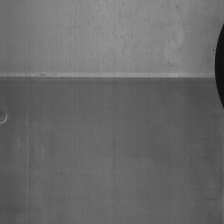welding_line: (0, 65, 220, 93)
